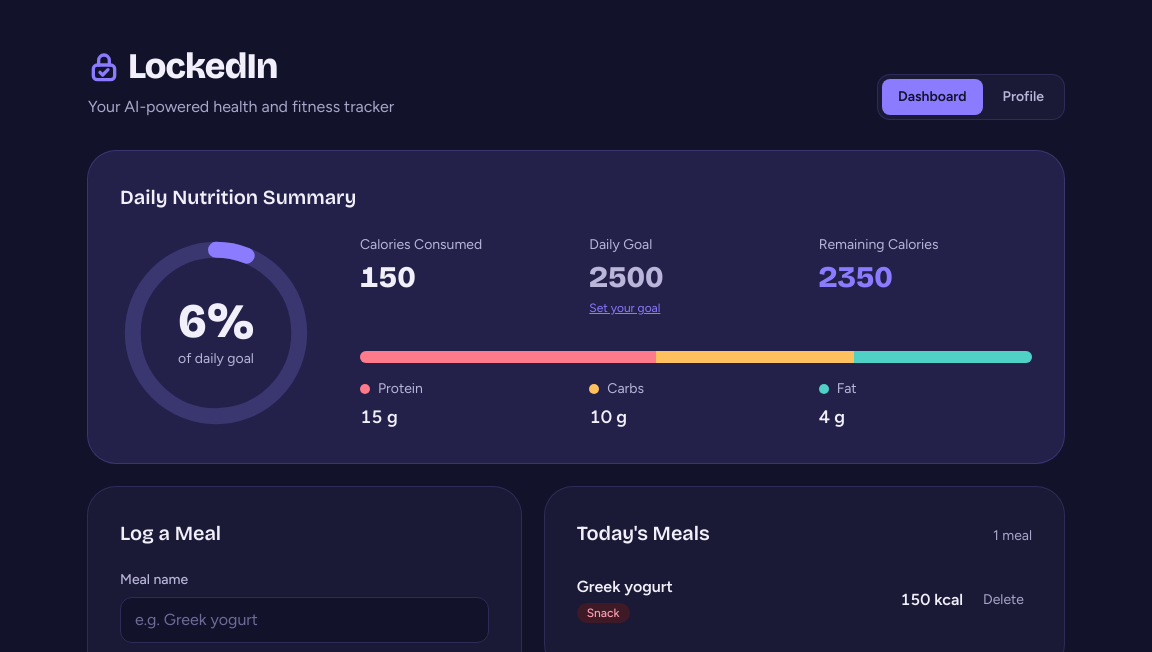
it: dashboard connected to the API › shows the API's validation error when saving fails
Expected: the heading "Greek yogurt" is shown, left=577, top=575, right=673, bottom=599
Type "Apple" into the field labelled "Meal name" at (304, 620), box left=120, top=597, right=489, bottom=643
(page scrolled)
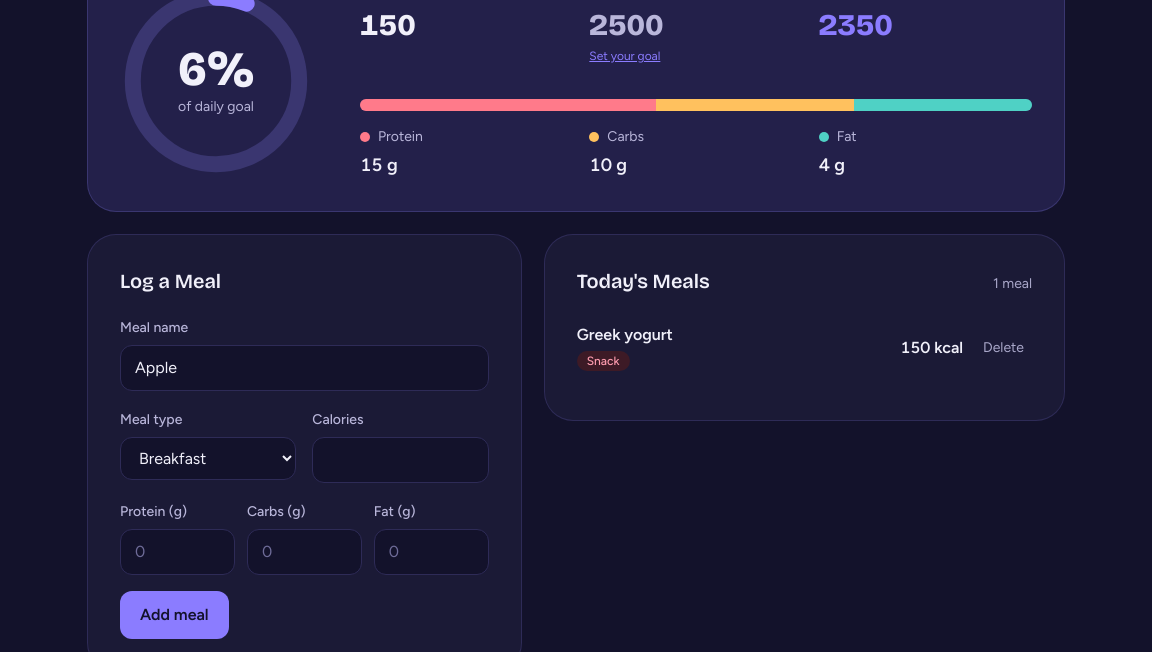
Type "95" into the number field labelled "Calories" at (401, 460), box left=312, top=437, right=489, bottom=483
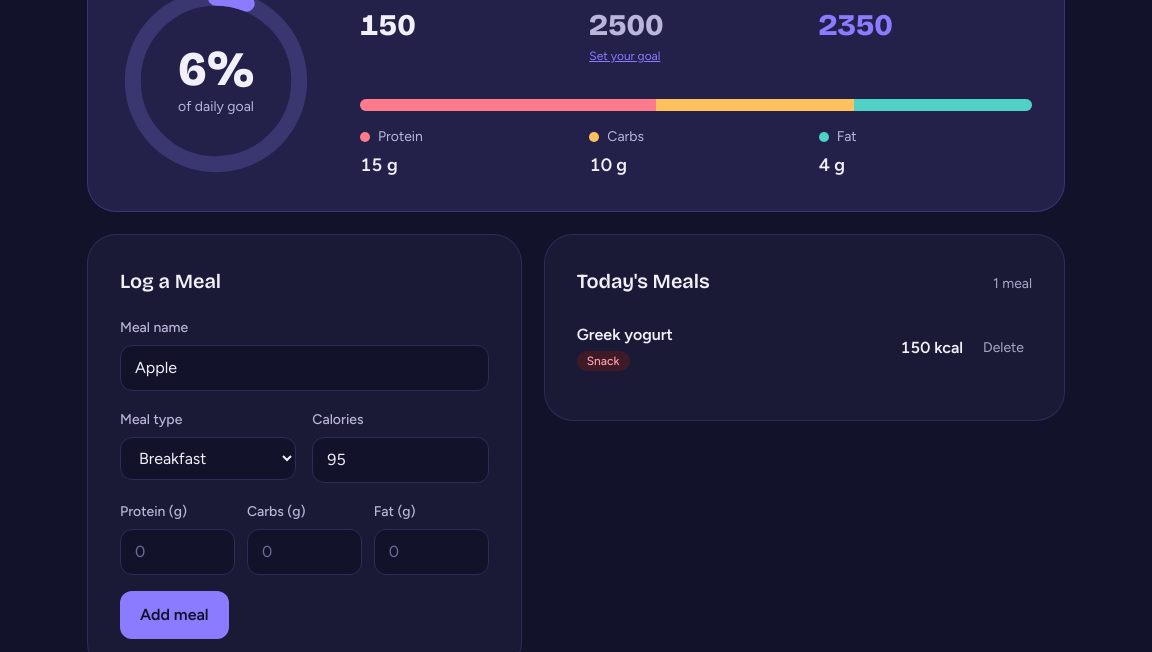
Click the button "Add meal" at (174, 615), box left=120, top=591, right=229, bottom=639
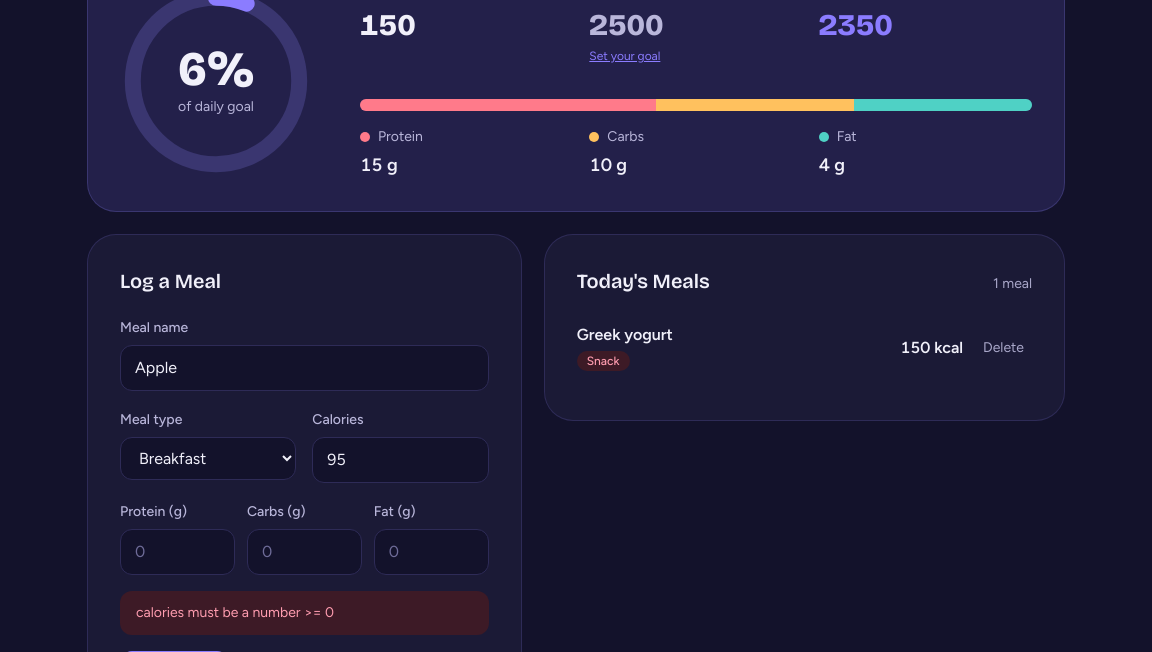
Result: the message with test id "meal-form-error" reads "calories must be a number >= 0" at left=136, top=604, right=334, bottom=621
